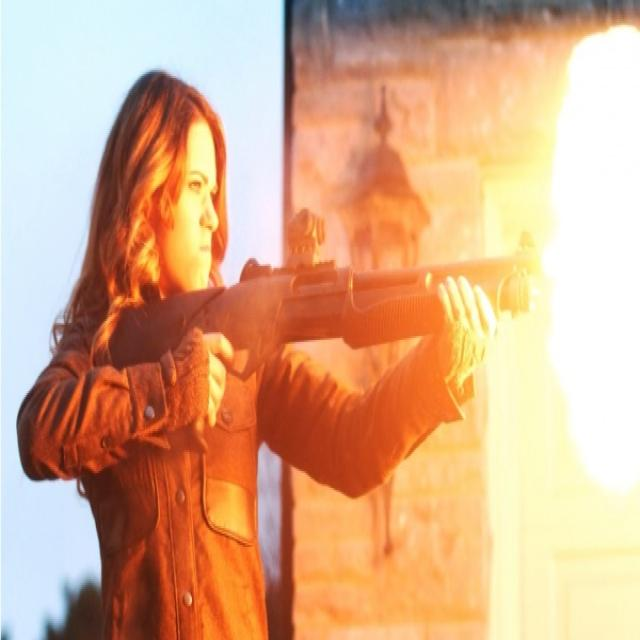rifle: (106, 196, 545, 390)
